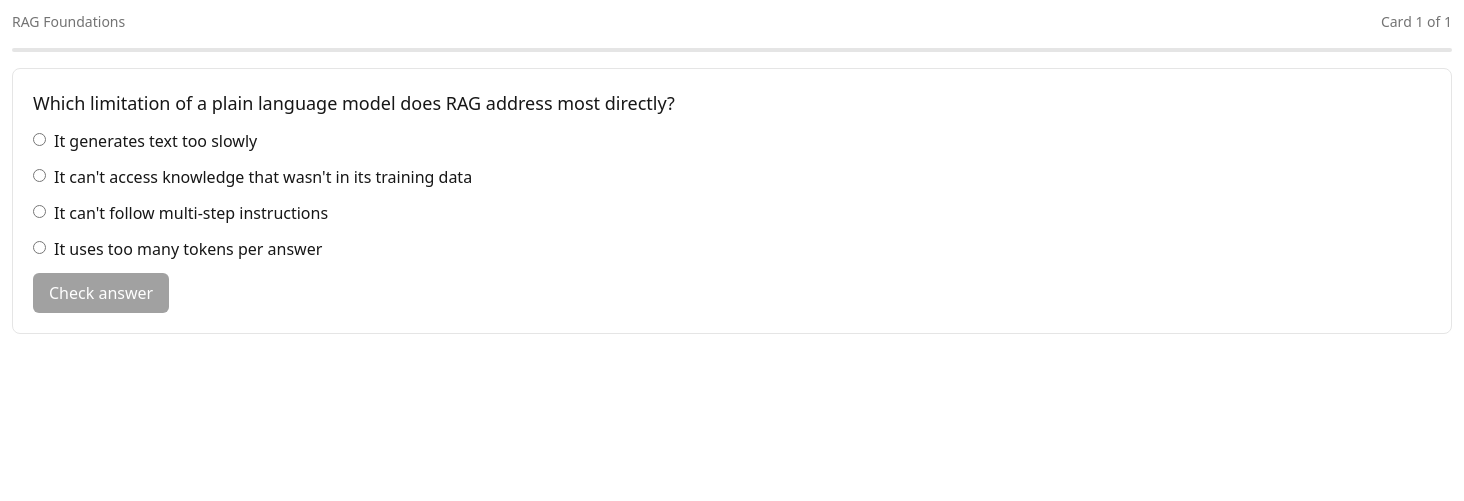
Test: review card: select an option and reveal the answer › shows the right answer and allows only Again after a miss
The image size is (1464, 501).
Click the radio button labelled "It generates text too slowly" at (40, 140), box [33,133,46,146]
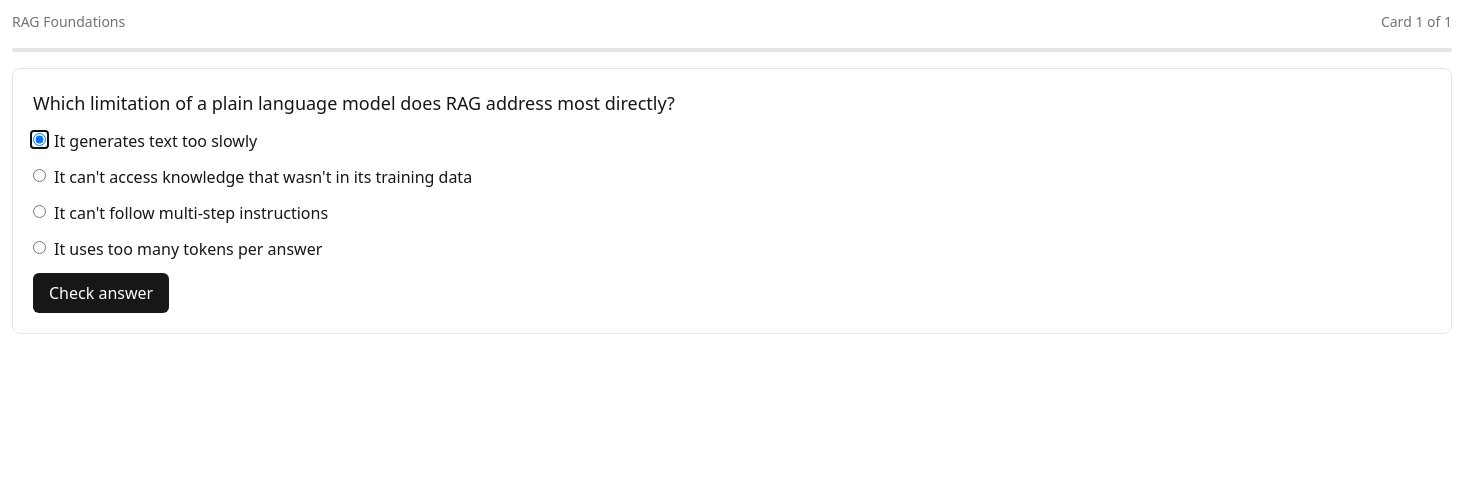
Click the button "Check answer" at (101, 293), box [33,273,169,313]
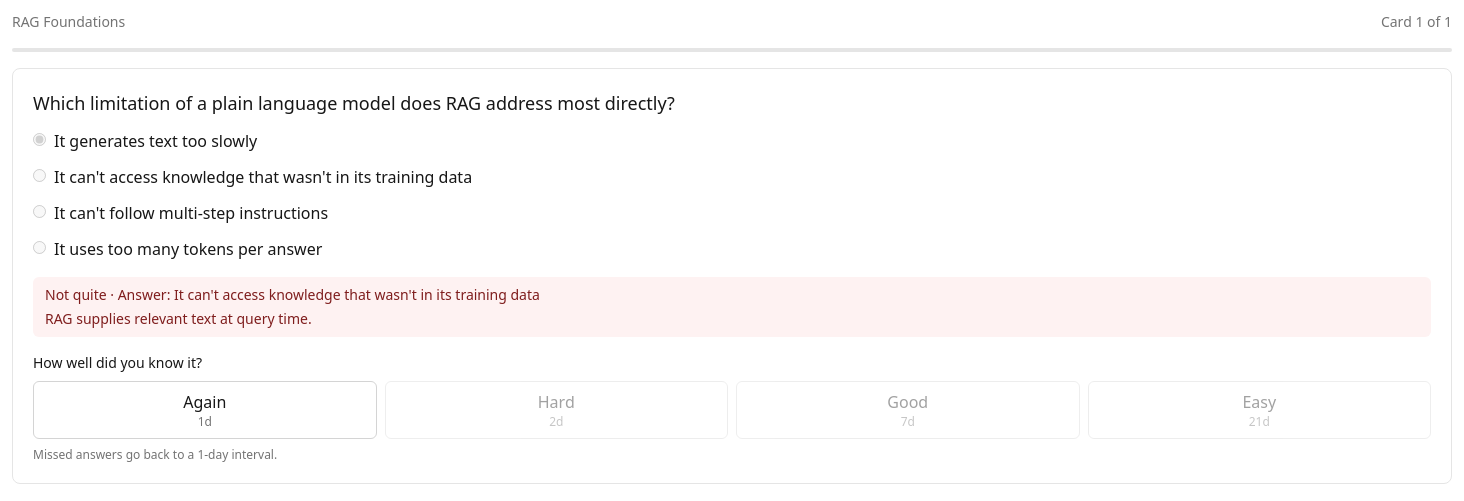
Expected: the text "Not quite · Answer: It can't access knowledge" is shown, [45,285,540,304]
Expected: the button "Again 1d" is enabled, [33,381,376,439]
Expected: the button "Good 7d" is disabled, [736,381,1080,439]
